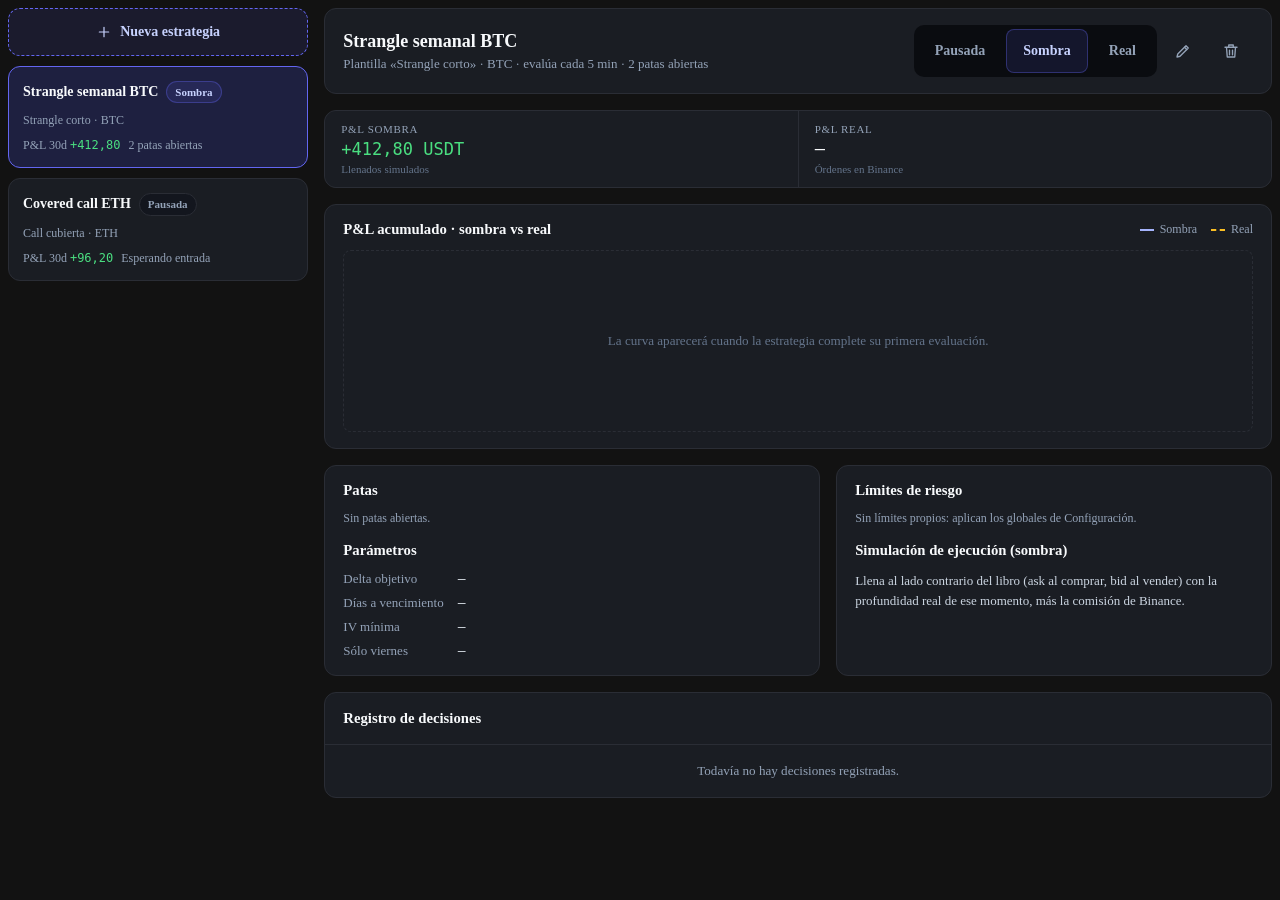
StrategiesTab · escritorio › pasar a Real abre la confirmación y sólo al aceptar envía confirm:true
Expected: the heading "Strangle semanal BTC" is shown, [343,30,517,50]
Click the radio button labelled "Real". click: (1122, 51)
box: [1092,29,1153,73]
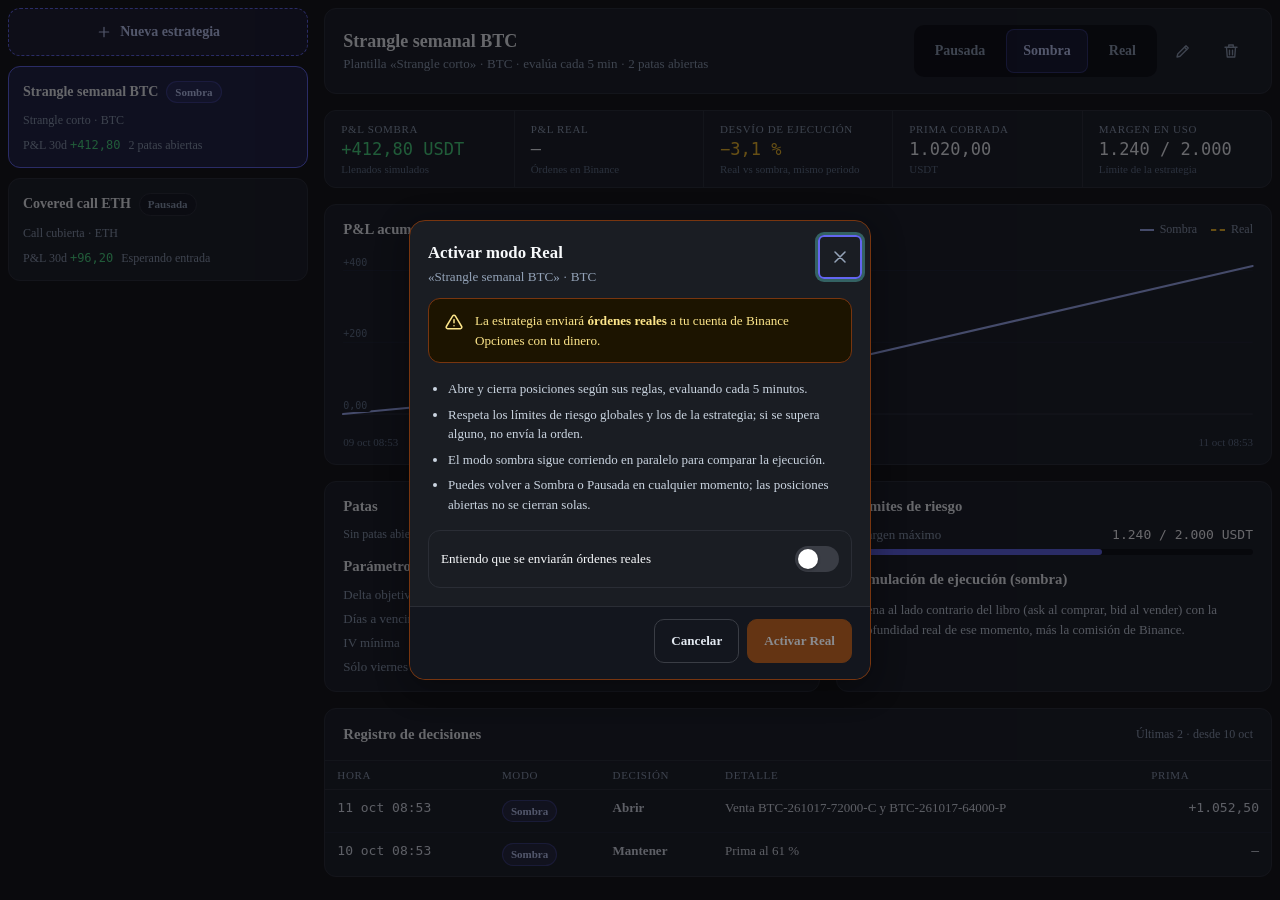
Expected: the button "Activar Real" is disabled, [747,619,852,663]
Click the switch labelled "Entiendo que se enviarán órdenes reales". click: (640, 559)
box: [429,531,851,587]
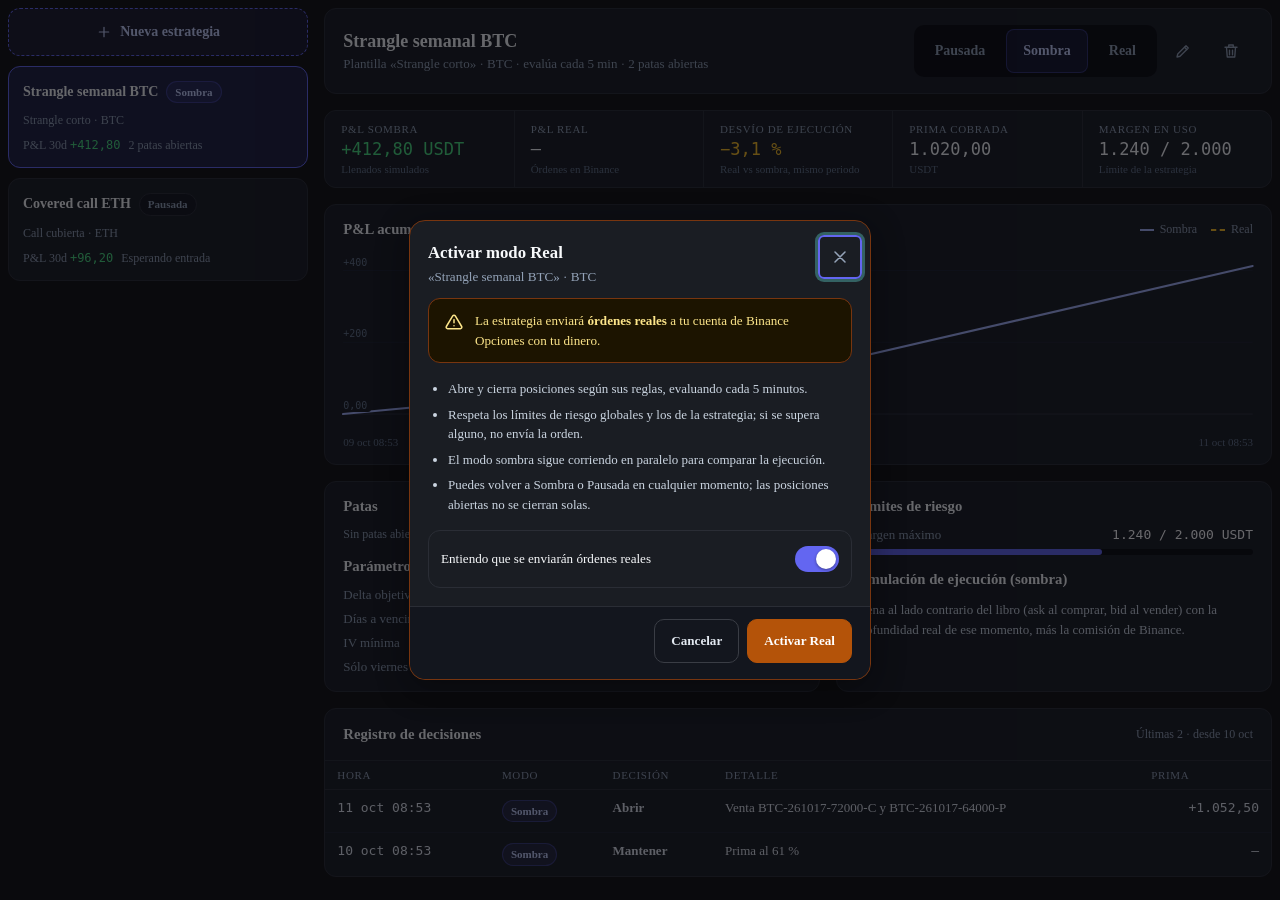
Expected: the button "Activar Real" is enabled
Click the button "Activar Real". click: (800, 641)
box: [747,619,852,663]
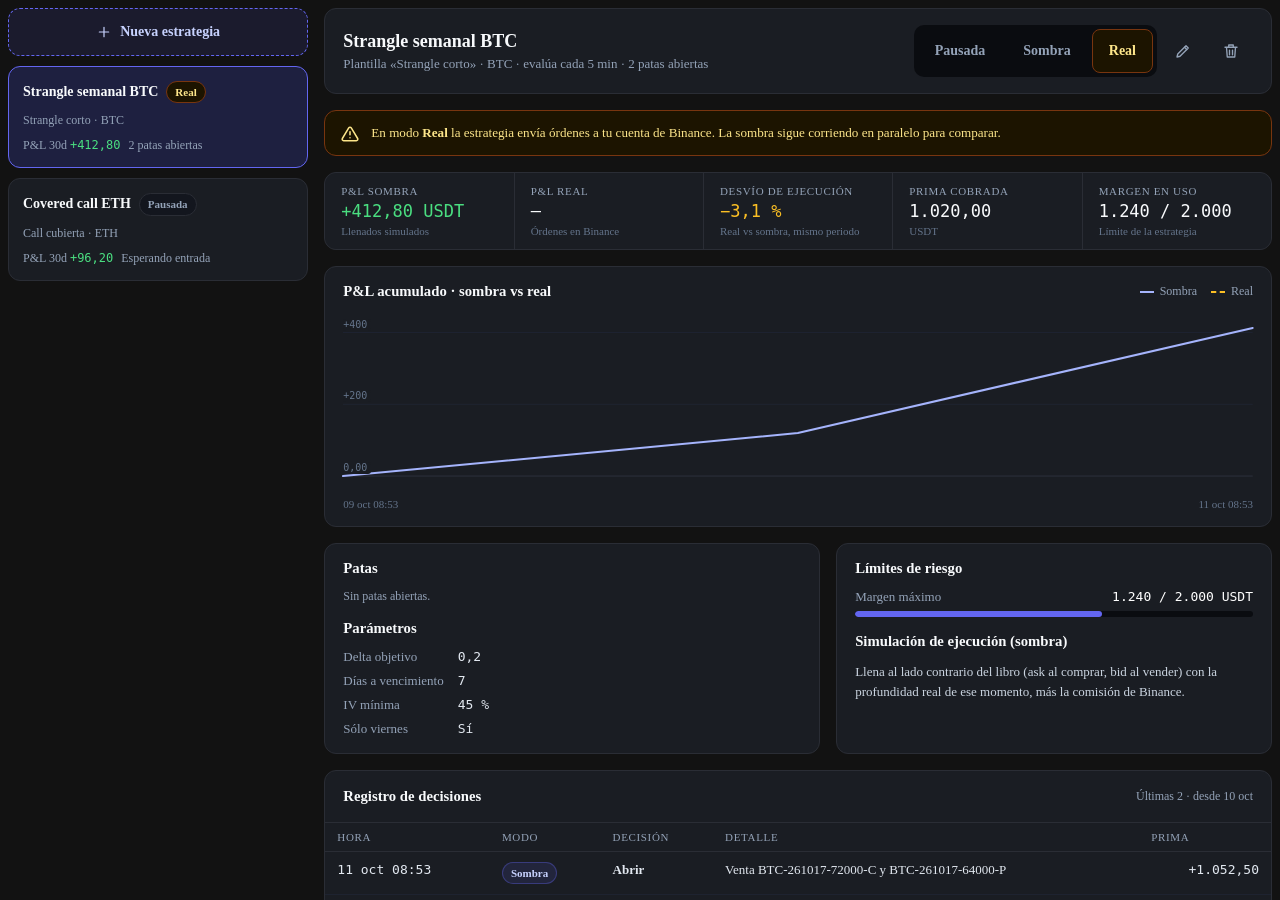
Expected: the heading "Activar modo Real" is gone
